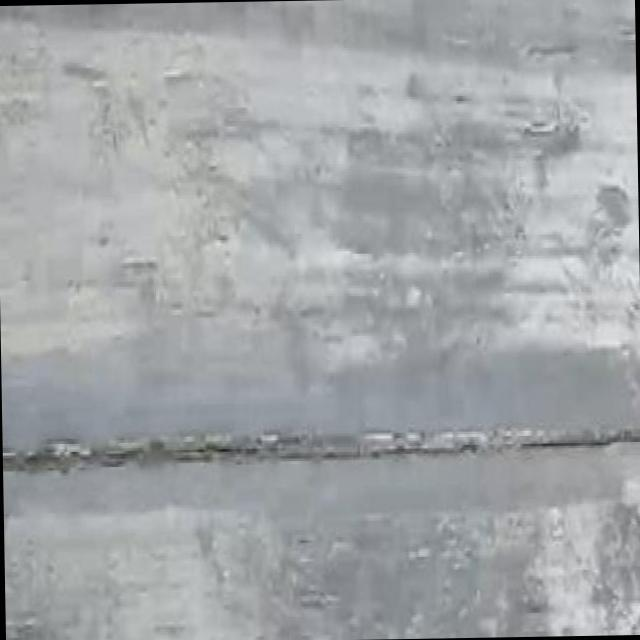Tear: (0, 419, 640, 482)
